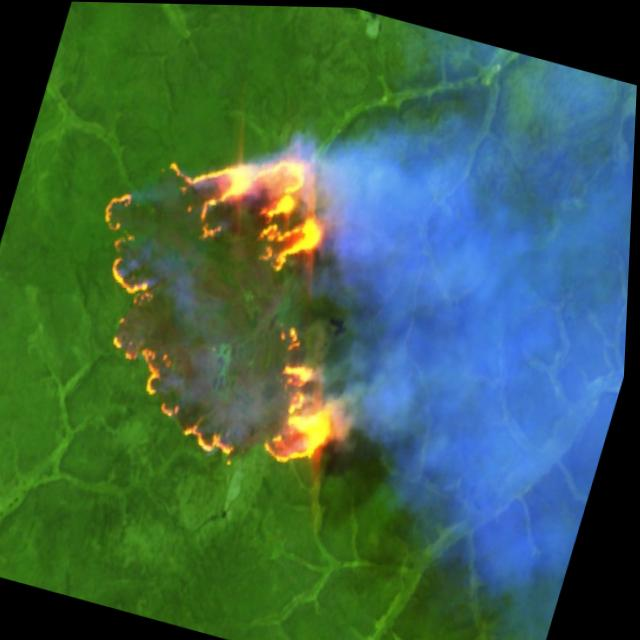fire: (35, 92, 416, 492)
